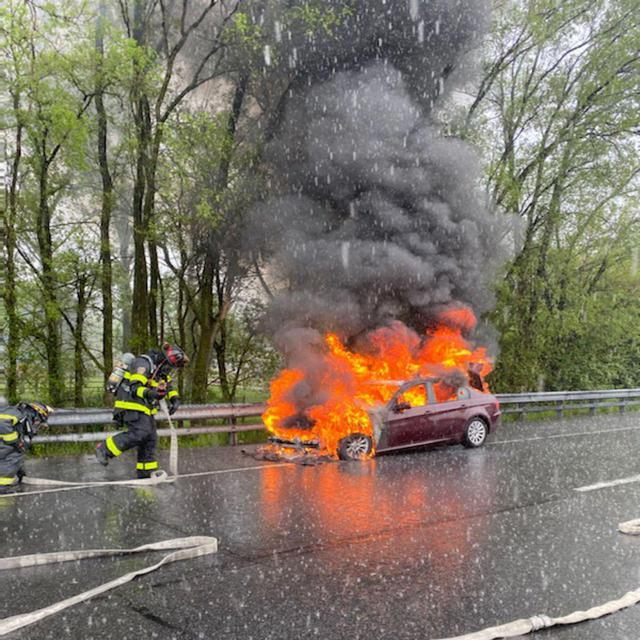Fire: (265, 305, 495, 462)
Smoke: (278, 1, 496, 319)
